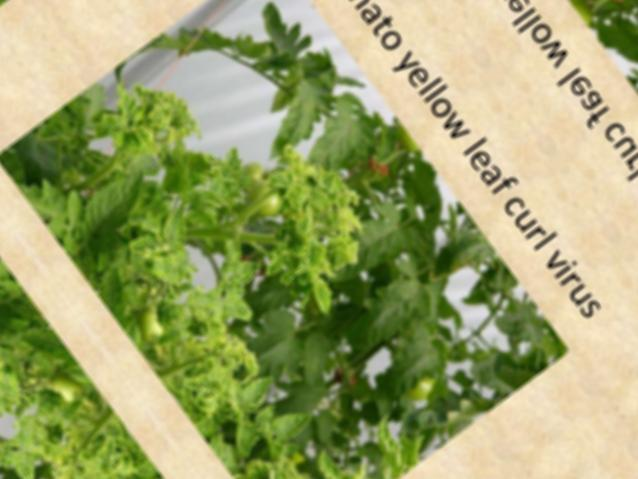Tomato leaf yellow virus: (265, 397, 326, 455), (150, 197, 205, 252), (226, 367, 283, 420), (179, 355, 235, 408), (363, 409, 416, 465), (141, 244, 193, 297), (99, 80, 149, 135), (299, 270, 347, 322), (216, 251, 266, 297), (119, 124, 165, 169), (217, 290, 260, 335), (303, 442, 351, 479), (179, 306, 220, 349), (257, 162, 297, 199), (277, 181, 314, 216), (298, 239, 333, 274), (328, 238, 361, 270), (153, 294, 187, 325), (291, 211, 323, 243)
